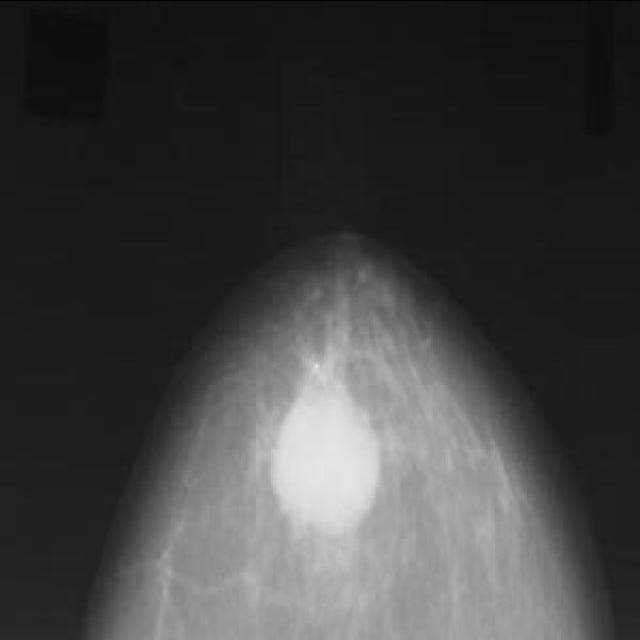tumor: (260, 352, 384, 534)
